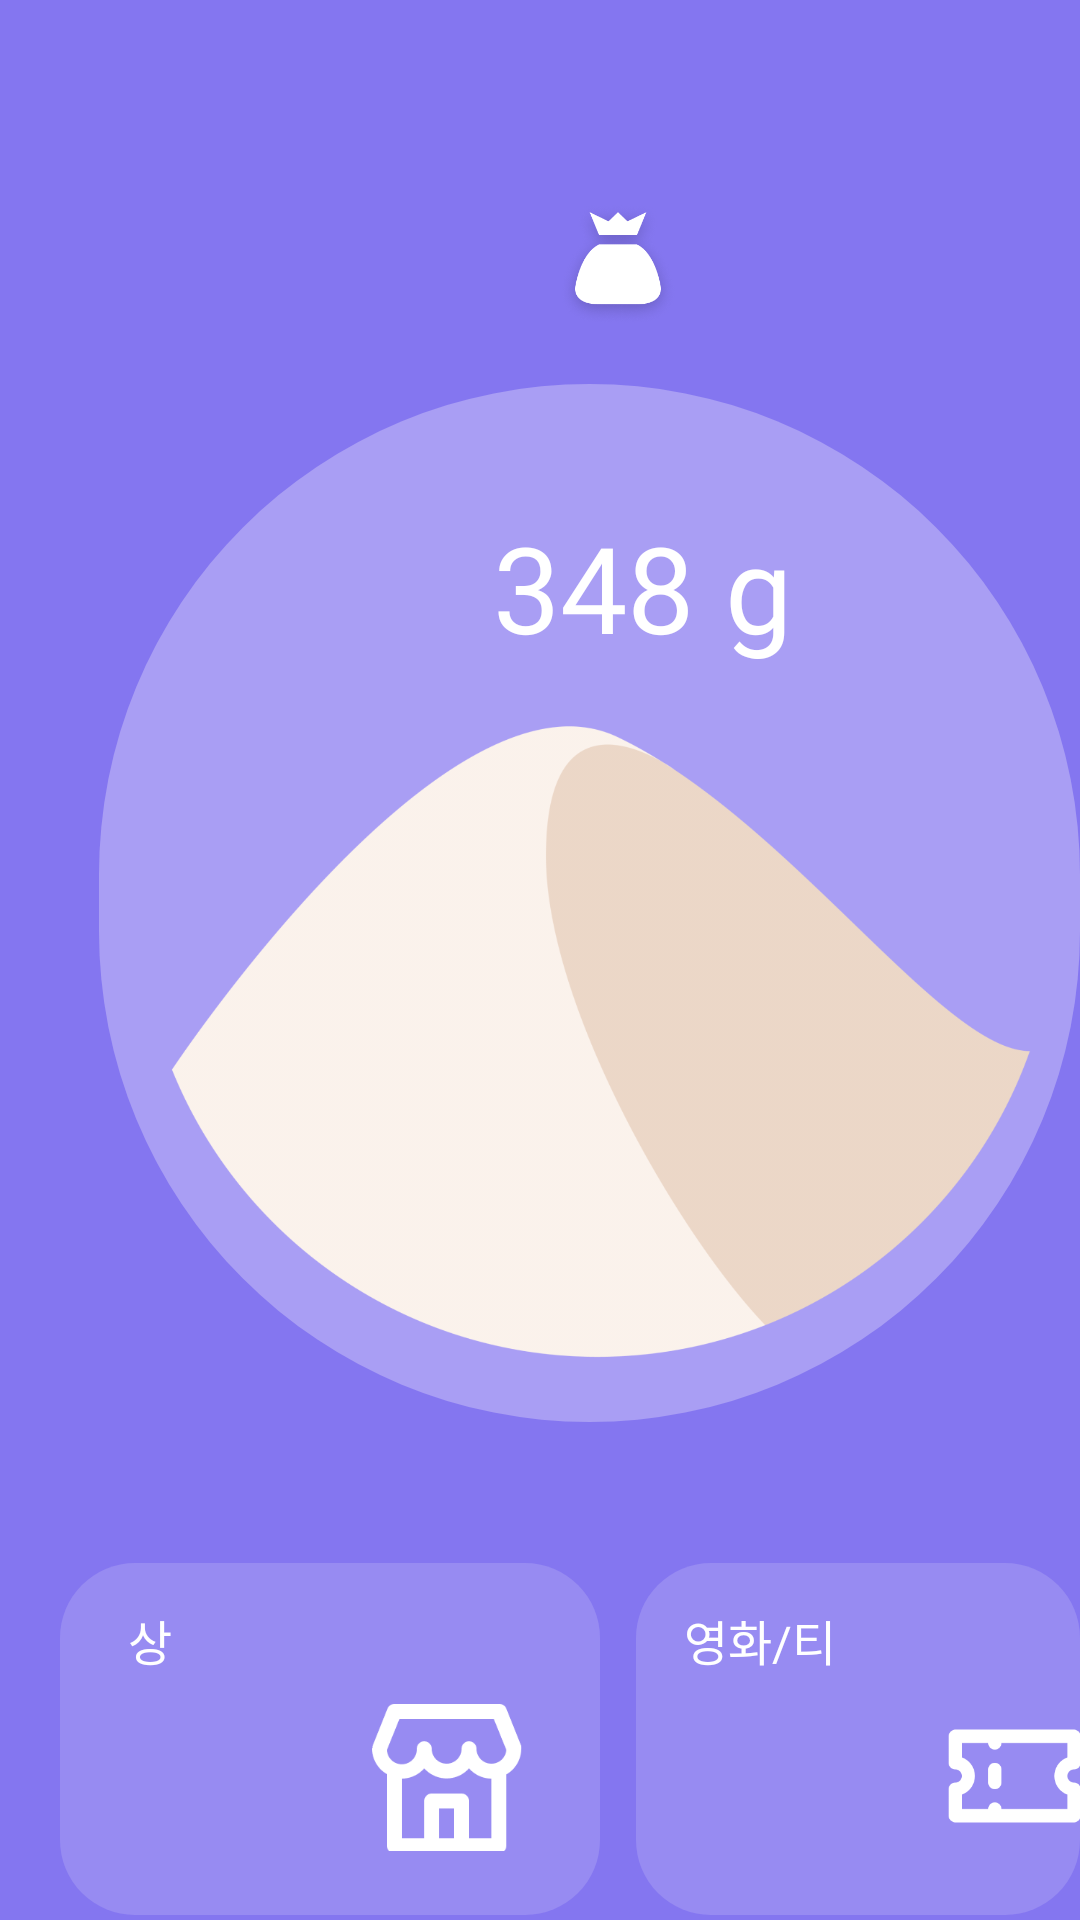

Where to tap for icons on this 1080w x 1920h app screen, as (x=x, y=y):
shopping: (x=447, y=1777)
ticket: (x=1014, y=1776)
